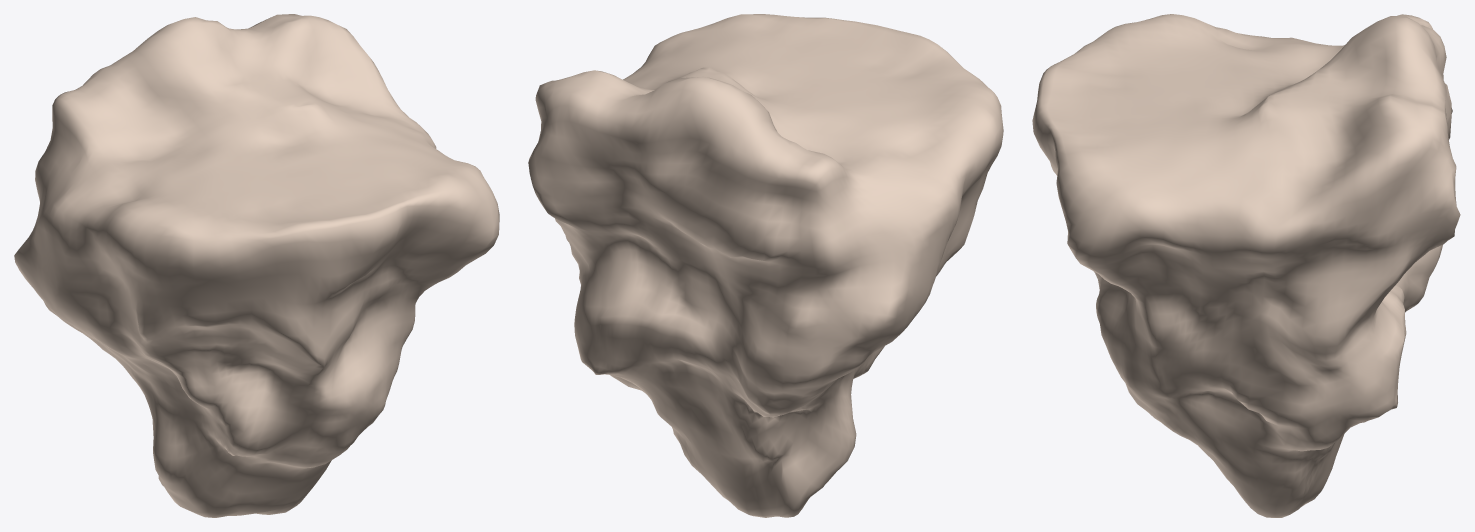
The model's file is air_floatingIsland_02_mesh.fbx.
The picture shows the model from 3 angles, left to right: view 1: azimuth 30°, elevation 25°; view 2: azimuth 150°, elevation 25°; view 3: azimuth 270°, elevation 25°; orthographic projection. The views are drawn at different scales.
Parts seen in each view (by area): view 1: island2Low; view 2: island2Low; view 3: island2Low.
Boxes of the visible parts, x1=… form: island2Low: x1=14, y1=14, x2=499, y2=517; island2Low: x1=528, y1=14, x2=1003, y2=517; island2Low: x1=1032, y1=14, x2=1460, y2=517.
Bounding box in the file's own units: 2067 × 2433 × 1958.
